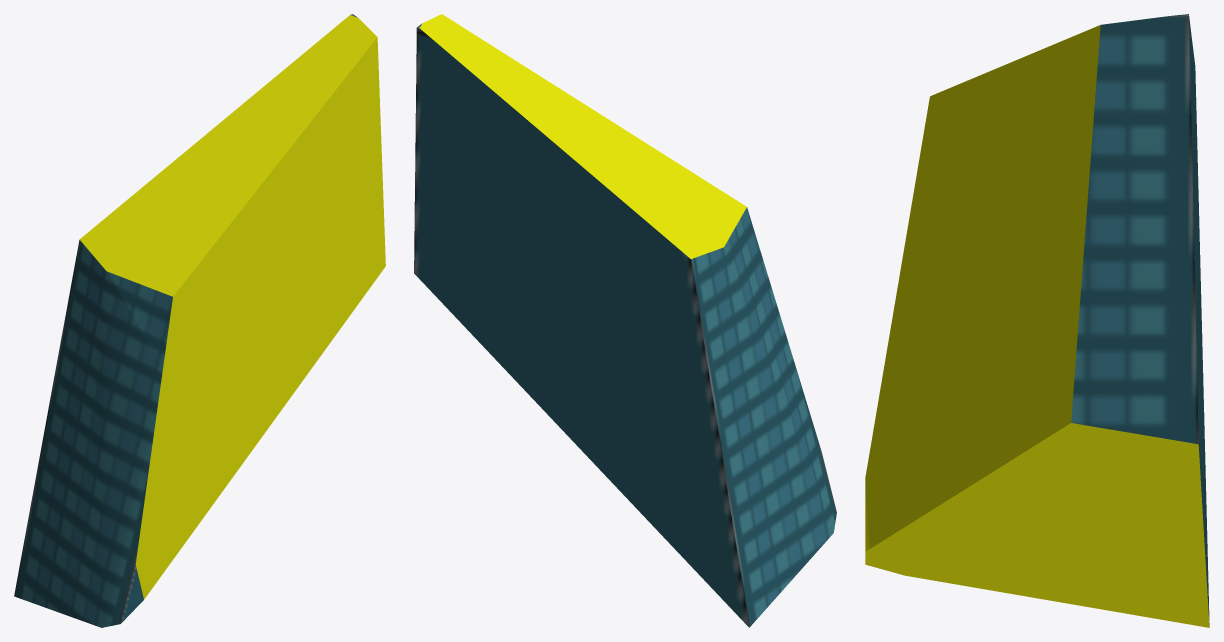
Rendered from boAShard7.fbx.
3 renders of one model, left to right at view 1: azimuth 30°, elevation 25°; view 2: azimuth 150°, elevation 25°; view 3: azimuth 270°, elevation 25°, orthographic. The views are drawn at different scales.
Visible parts, largest first — view 1: shard60; view 2: shard60; view 3: shard60.
Boxes of the visible parts, x1,y1,x2,y2 form: shard60: [14, 14, 385, 627]; shard60: [414, 14, 836, 627]; shard60: [865, 14, 1209, 627].
Bounding box in the file's own units: 0.0906 × 0.1314 × 0.0455.
2 materials, 1 textured.
